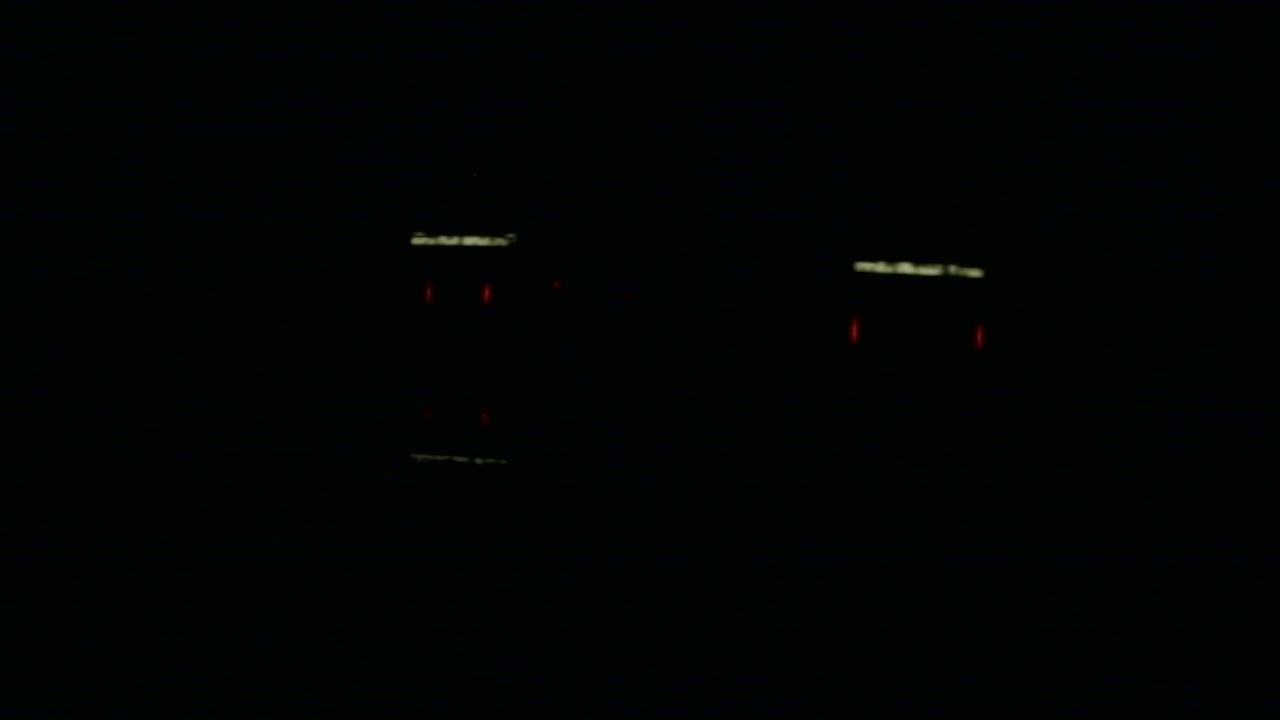lamp: (483, 279, 495, 303), (848, 319, 858, 343), (972, 315, 981, 339), (423, 283, 432, 305)
pair1: (424, 284, 493, 304)
pair2: (851, 320, 982, 345)
